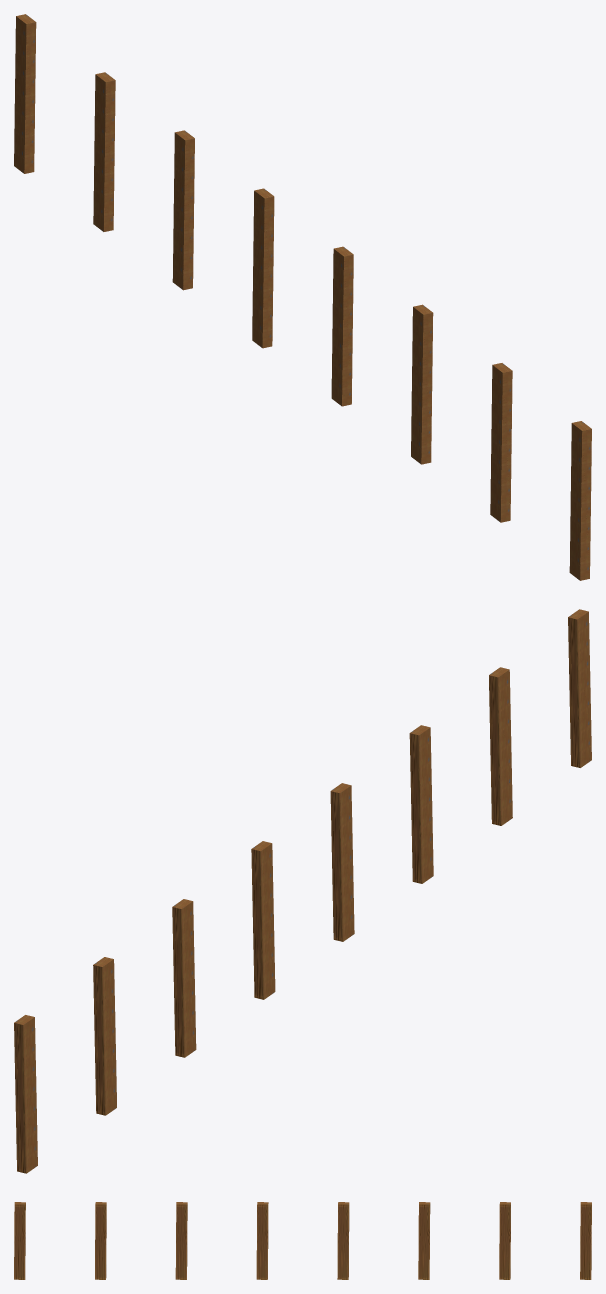
The picture shows the model from 3 angles, top to bottom: view 1: azimuth 30°, elevation 25°; view 2: azimuth 150°, elevation 25°; view 3: azimuth 270°, elevation 25°; orthographic projection. The views are drawn at different scales.
Visible parts, largest first — view 1: Cube.495; view 2: Cube.495; view 3: Cube.495.
Part boxes in pixels (x1,y1,x2,y2): Cube.495: [14, 14, 591, 580]; Cube.495: [14, 609, 591, 1173]; Cube.495: [14, 1202, 591, 1279].
Size of the model in its own units: 12.74 by 143 by 984.
Materials: 1 (1 with a texture image).
